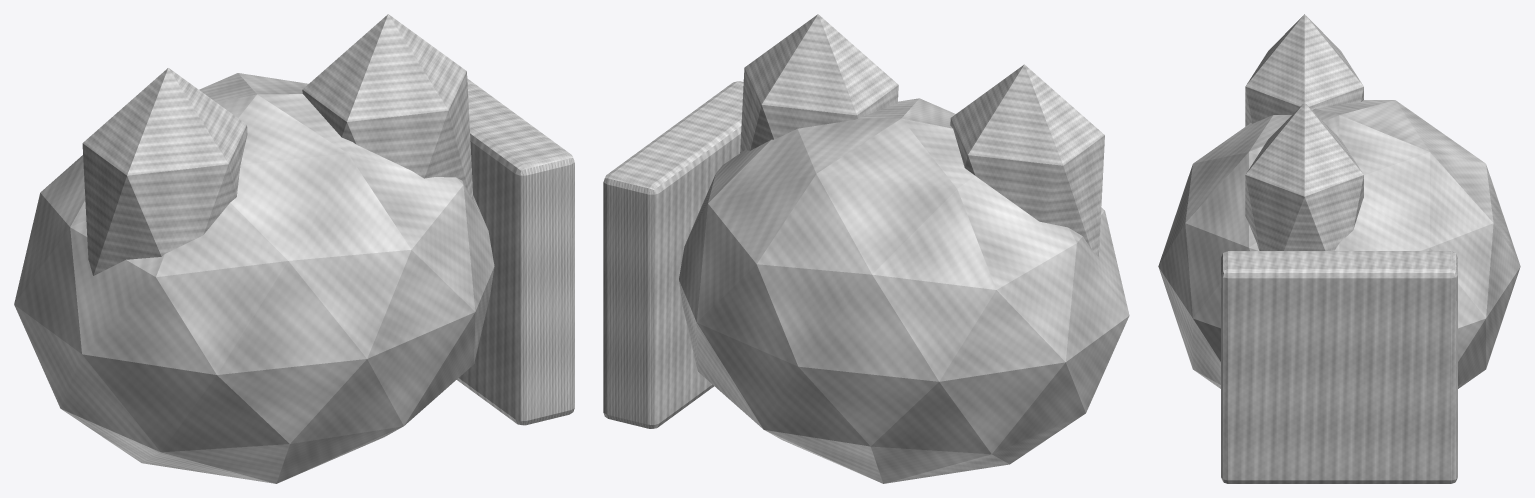
File: consumable-bacon-agaric_variant_b.glb
3 views of the same model, side by side, from view 1: azimuth 30°, elevation 25°; view 2: azimuth 150°, elevation 25°; view 3: azimuth 270°, elevation 25° (orthographic). The views are drawn at different scales.
Parts seen in each view (by area): view 1: Organic item.001, Variant reinforcement, Organic detail.002, Organic detail.003; view 2: Organic item.001, Variant reinforcement, Organic detail.002, Organic detail.003; view 3: Variant reinforcement, Organic item.001, Organic detail.003, Organic detail.002.
Part boxes in pixels (x1=…): Organic item.001: x1=14, y1=73, x2=494, y2=483; Variant reinforcement: x1=457, y1=78, x2=574, y2=425; Organic detail.002: x1=82, y1=68, x2=247, y2=275; Organic detail.003: x1=302, y1=14, x2=473, y2=199; Organic item.001: x1=679, y1=98, x2=1129, y2=483; Variant reinforcement: x1=603, y1=81, x2=743, y2=428; Organic detail.002: x1=950, y1=64, x2=1104, y2=256; Organic detail.003: x1=740, y1=14, x2=898, y2=152; Variant reinforcement: x1=1221, y1=251, x2=1457, y2=483; Organic item.001: x1=1158, y1=100, x2=1520, y2=388; Organic detail.003: x1=1245, y1=102, x2=1363, y2=250; Organic detail.002: x1=1245, y1=14, x2=1363, y2=126.
Size of what is drawn, in the model's own units: 0.6253 by 0.57 by 0.52.
3 materials, 3 textured.
